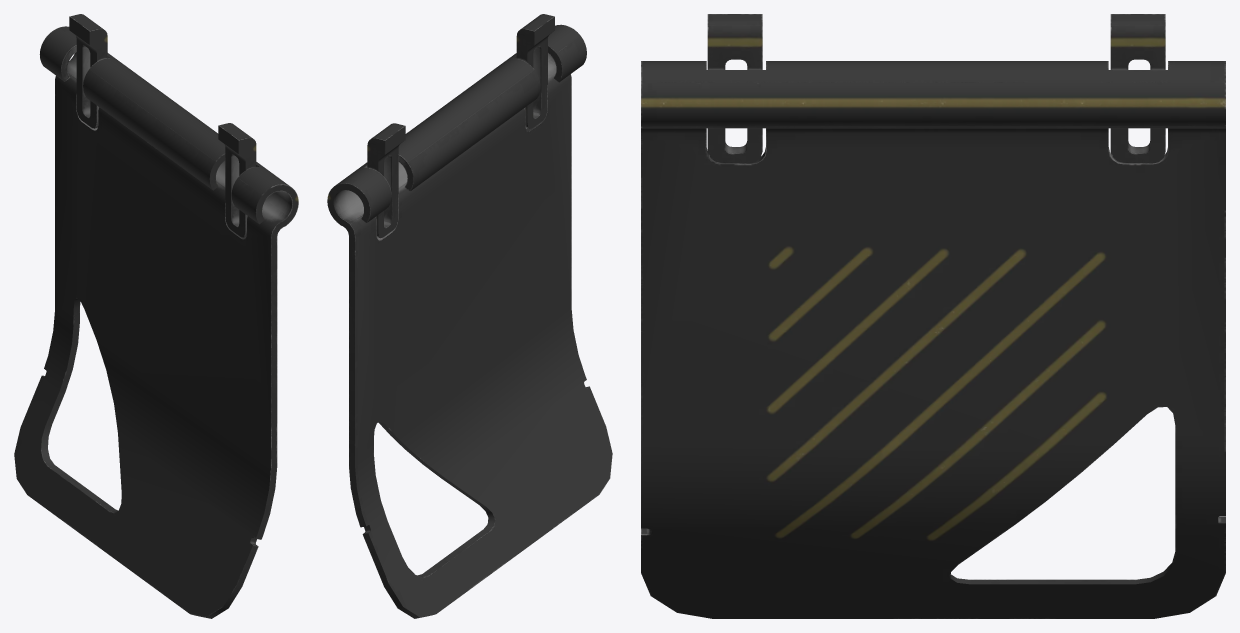
The model's file is b001-opt.glb.
3 renders of one model, left to right at view 1: azimuth 30°, elevation 25°; view 2: azimuth 150°, elevation 25°; view 3: azimuth 270°, elevation 25°, orthographic. The views are drawn at different scales.
Visible parts, largest first — view 1: Box.001; view 2: Box.001; view 3: Box.001.
Part boxes in pixels (bbox=[...]): Box.001: bbox=[14, 14, 298, 618]; Box.001: bbox=[327, 14, 612, 618]; Box.001: bbox=[641, 14, 1225, 618].
Size of the model in its own units: 0.299 by 1.63 by 1.36.
Materials: 1 (1 with a texture image).
